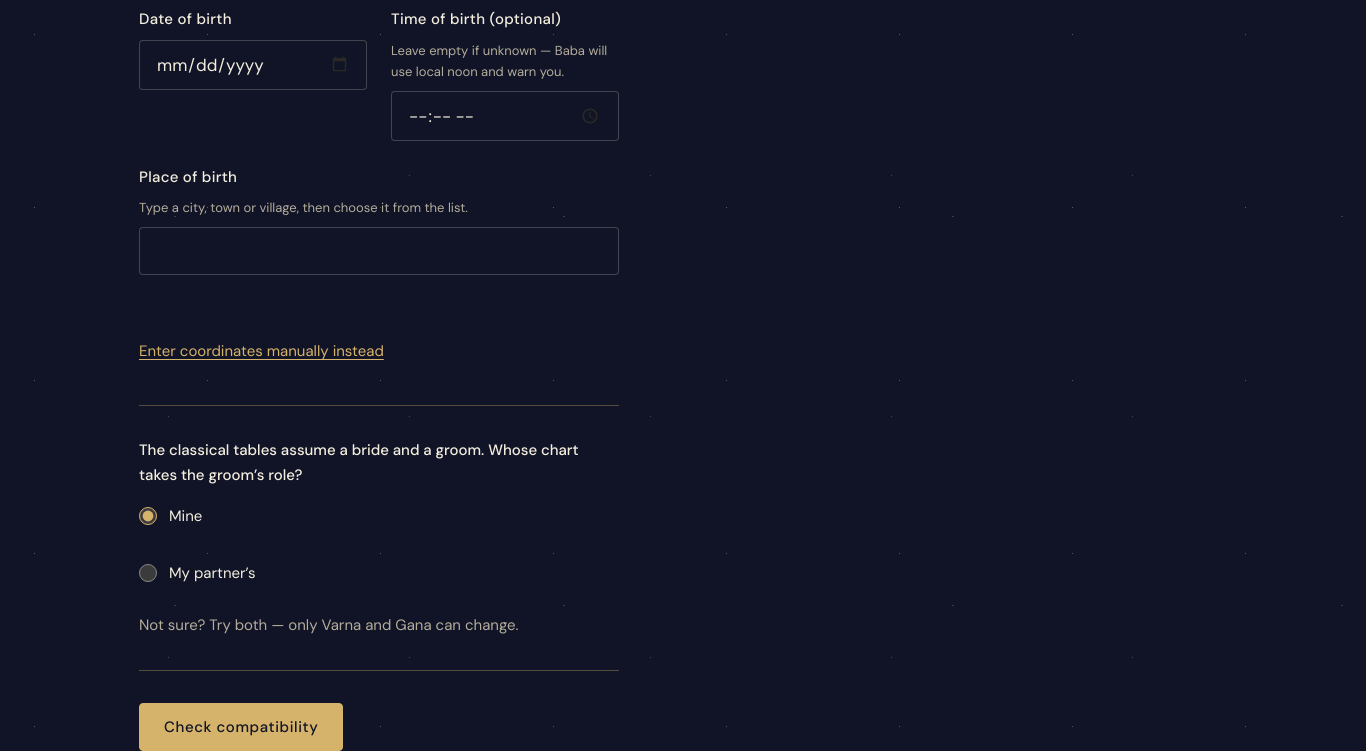
Test case: MatchPage › shows validation errors for an empty partner form
(page scrolled)
Click the button "Check compatibility".
click(241, 727)  # box [139,703,343,750]
(page scrolled)
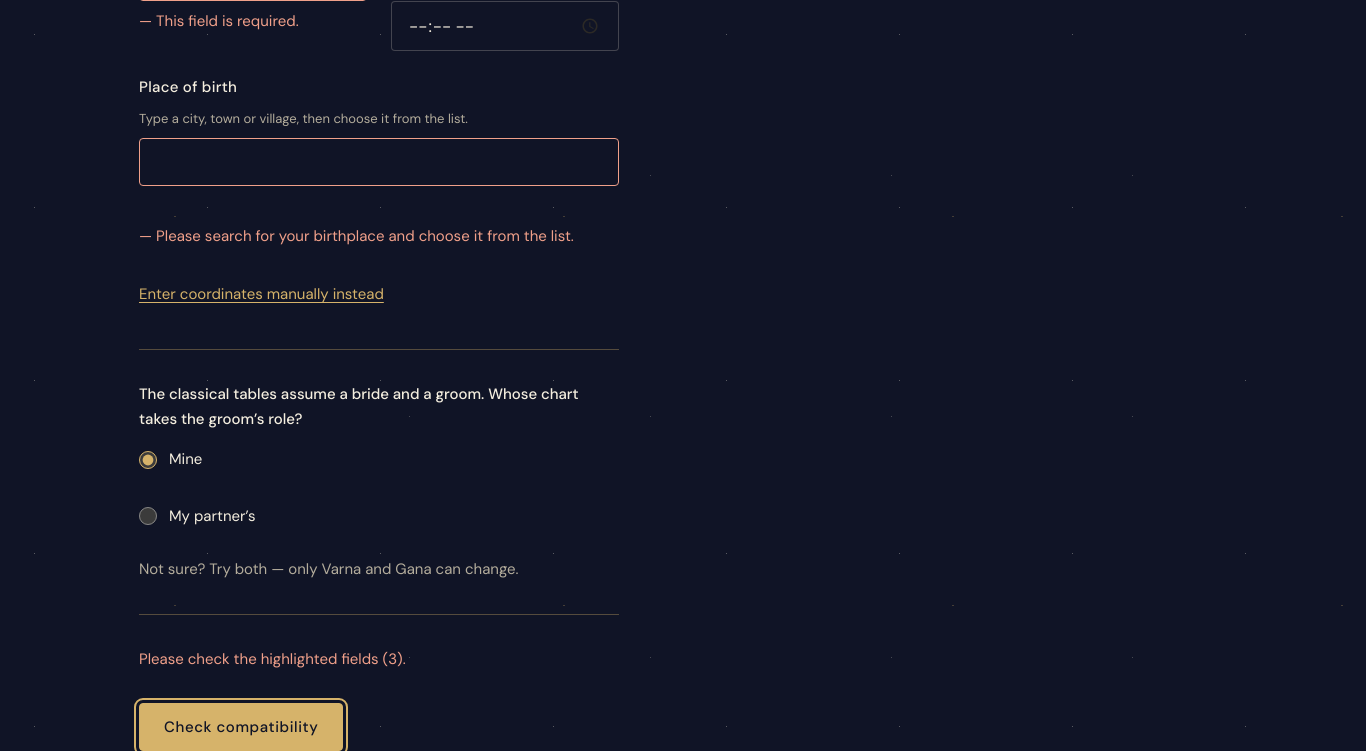
Expected: the message "Please check the highlighted fields (3)." is shown, [139,649,406,669]
